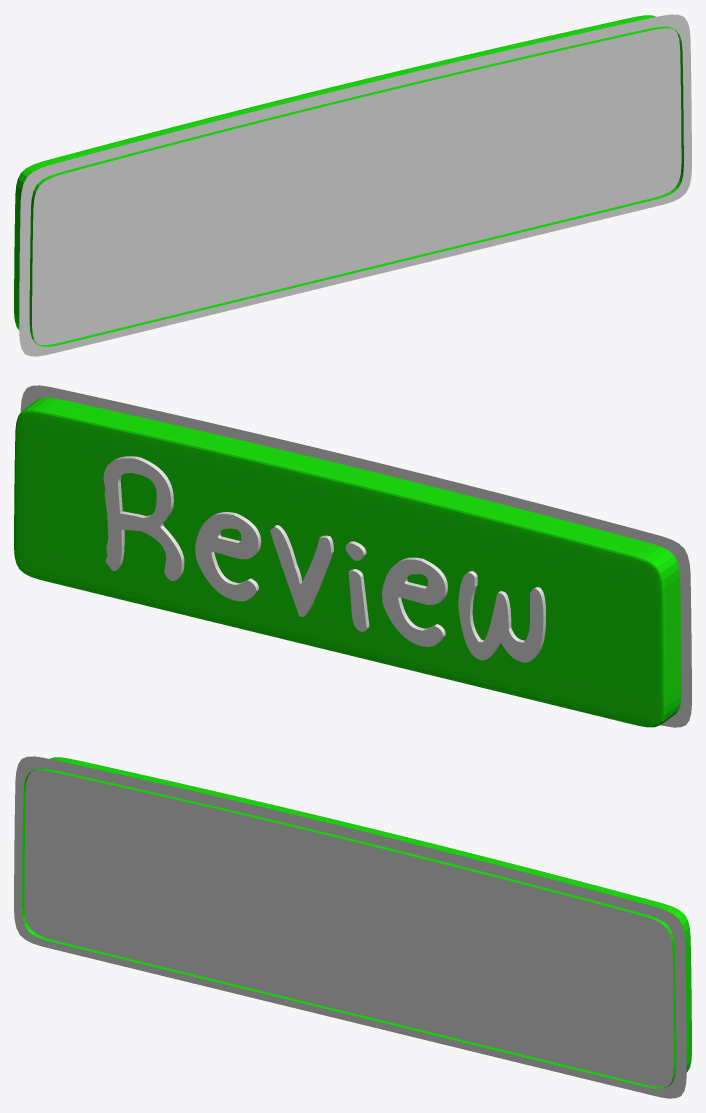
The model's file is review_button.fbx.
3 views of the same model, one above another, from view 1: azimuth 30°, elevation 25°; view 2: azimuth 150°, elevation 25°; view 3: azimuth 330°, elevation 25° (orthographic).
Parts seen in each view (by area): view 1: Plane.001, Plane; view 2: Plane, Text, Plane.001; view 3: Plane.001, Plane.
Boxes of the visible parts, bbox=[...] form: Plane.001: bbox=[19, 14, 691, 356]; Plane: bbox=[14, 15, 683, 346]; Plane: bbox=[14, 397, 681, 727]; Text: bbox=[103, 456, 545, 662]; Plane.001: bbox=[20, 385, 691, 727]; Plane.001: bbox=[14, 756, 686, 1098]; Plane: bbox=[22, 757, 691, 1088].
Size of the model in its own units: 21090 by 5796 by 1210.
